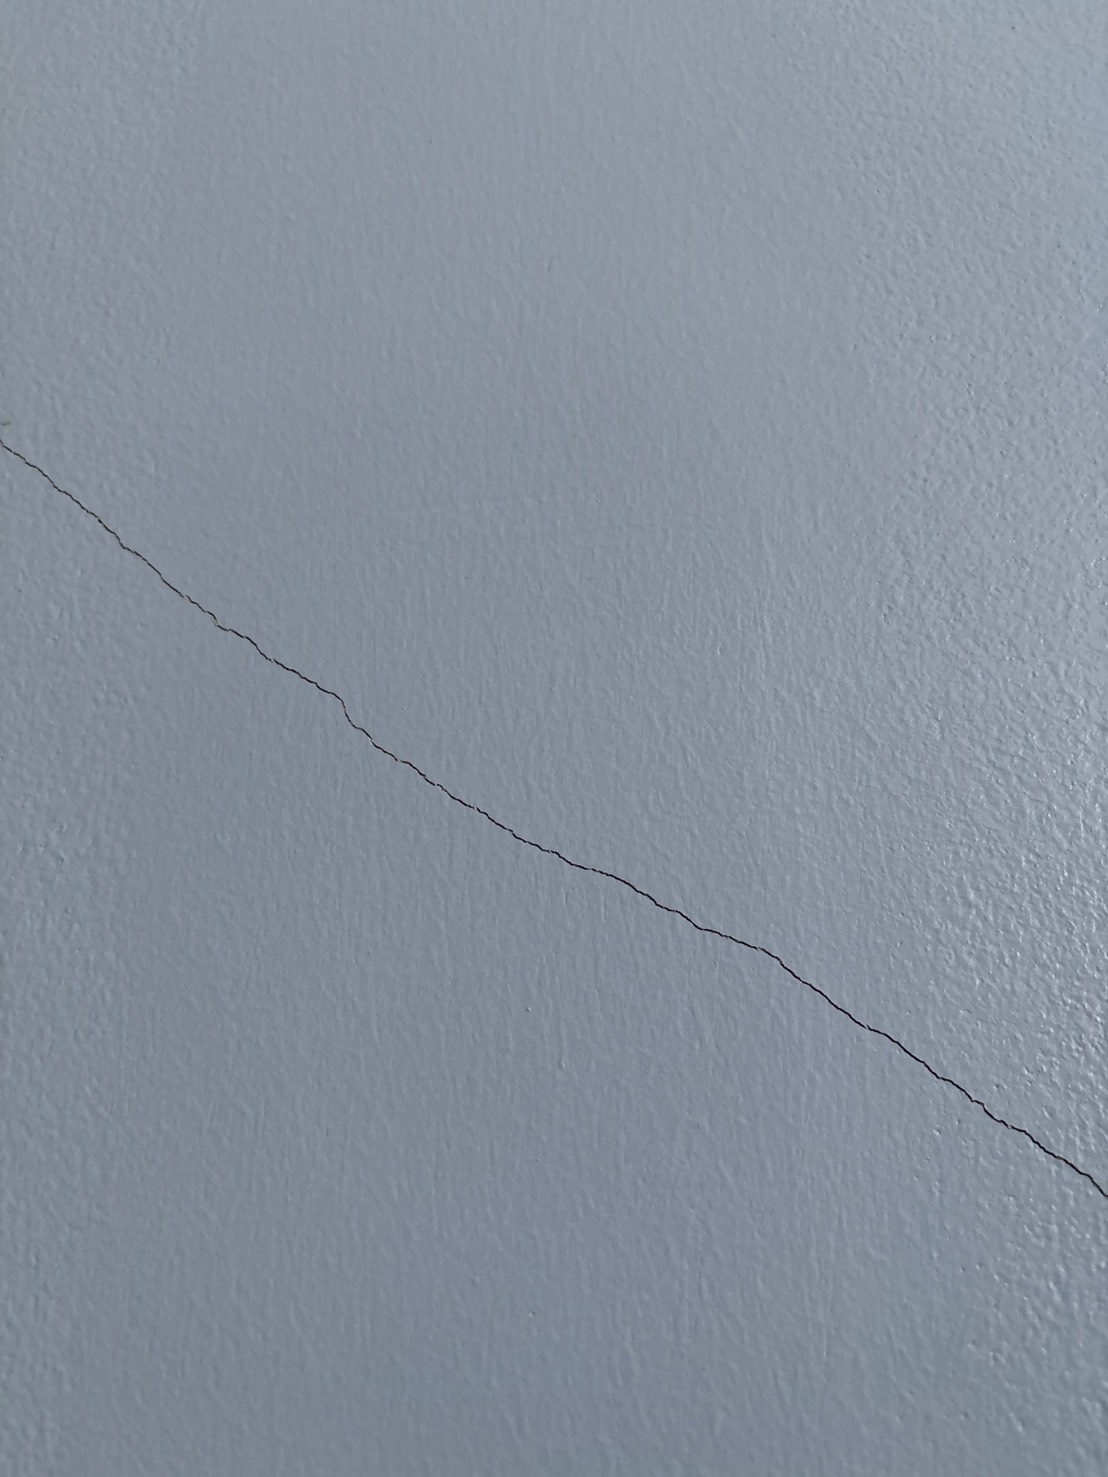Low: (2, 395, 1108, 1294)
